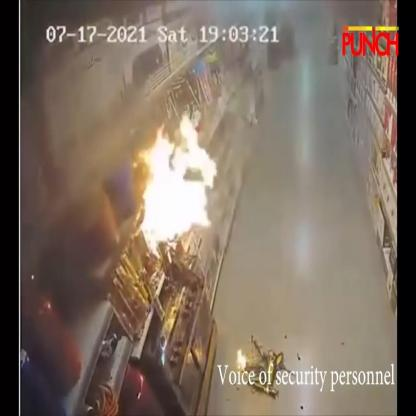fire: (139, 113, 216, 244), (237, 349, 246, 369)
